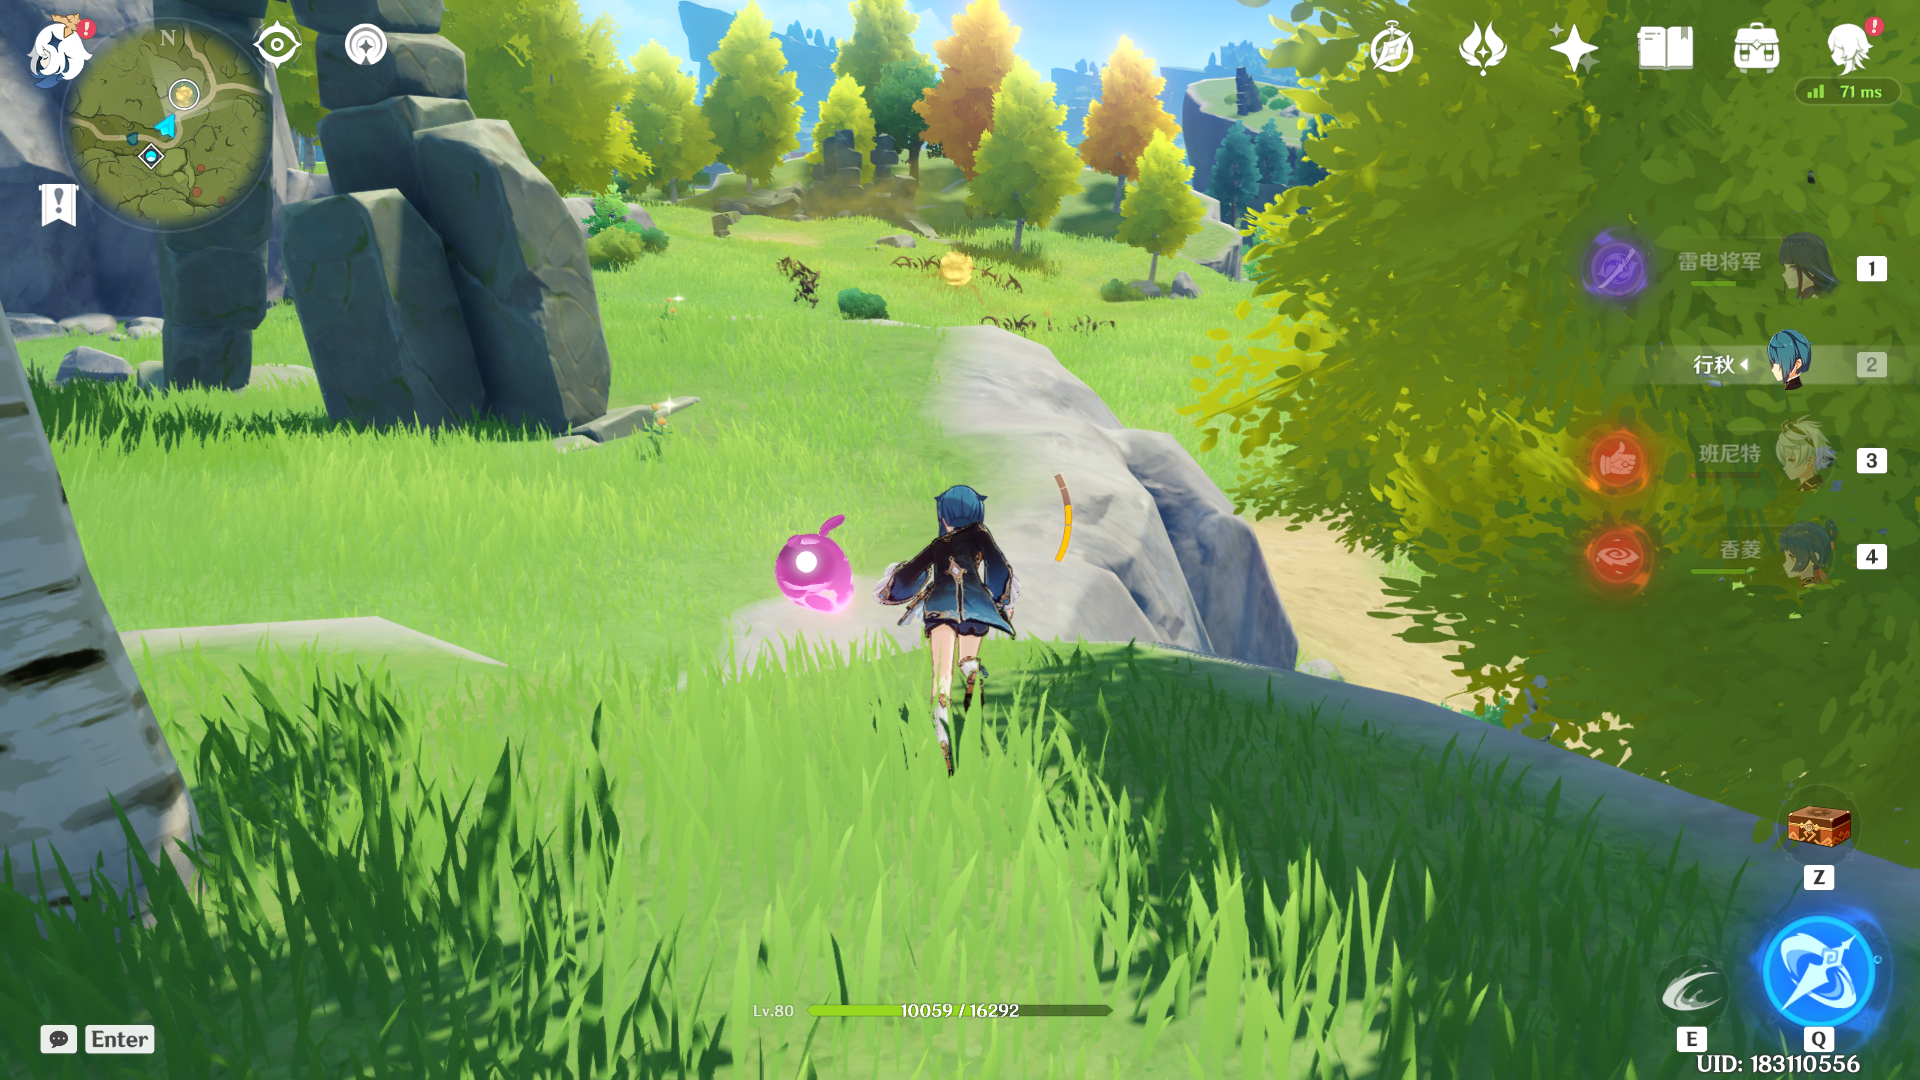character: (816, 444, 1063, 760)
